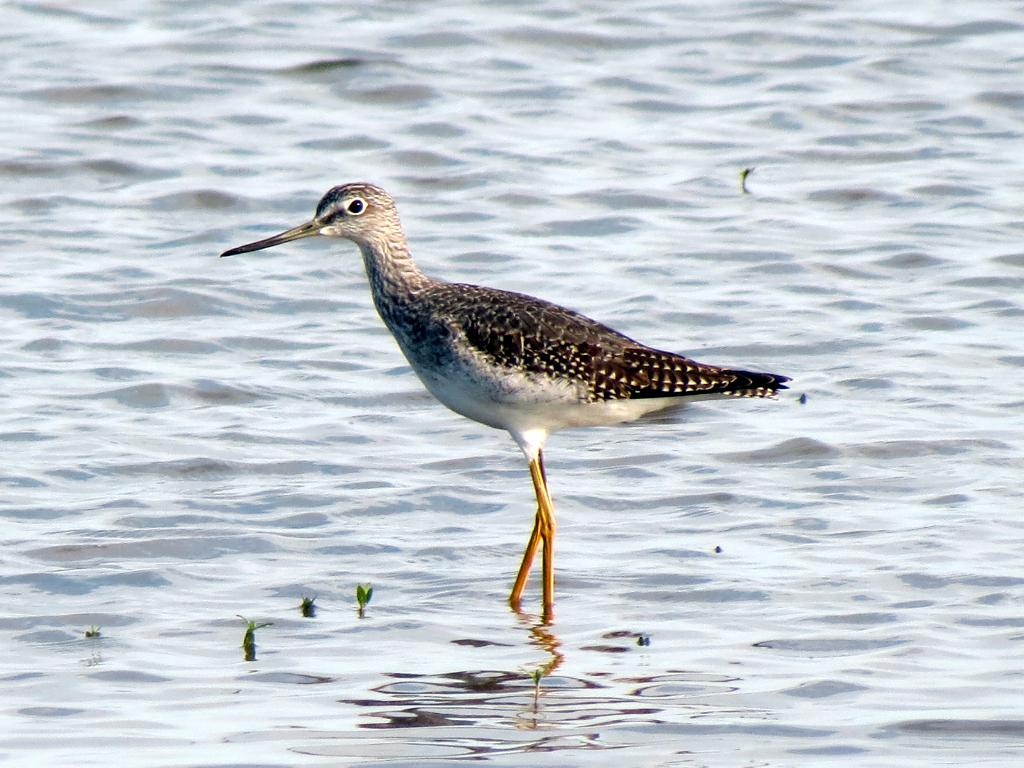Bird: (219, 181, 795, 606)
